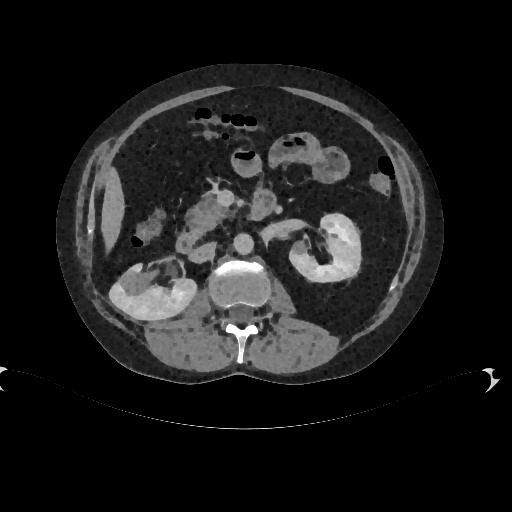Lesion: (121, 267, 160, 296)
